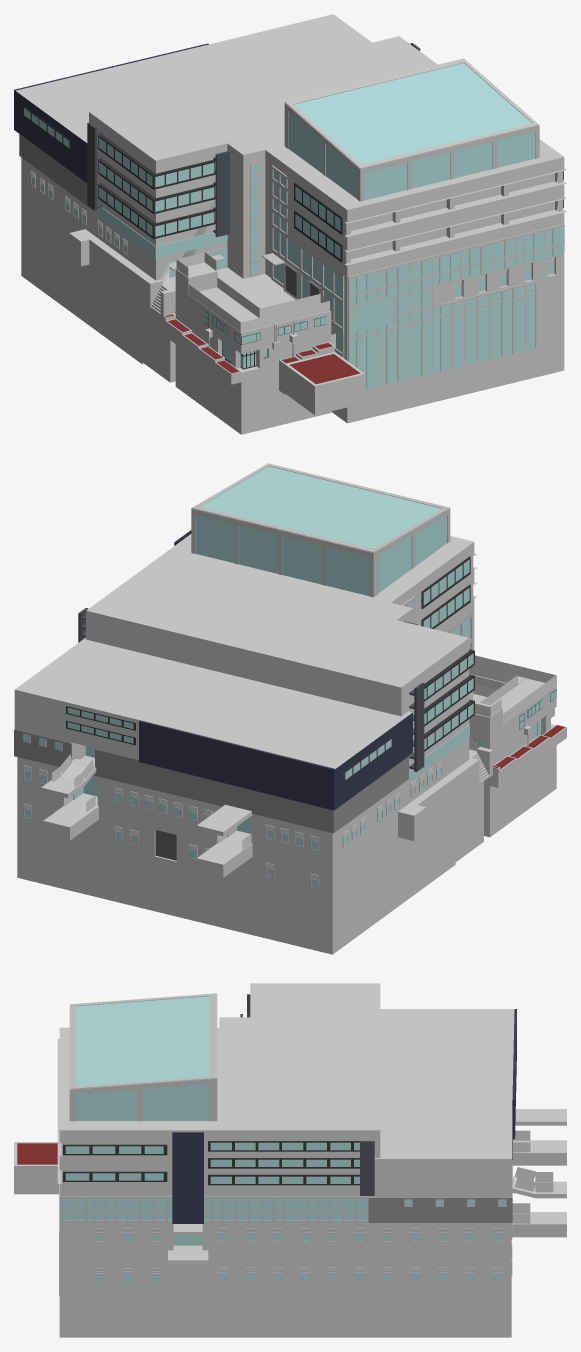
File: EastBuilding 1.fbx
3 views of the same model, one above another, from view 1: azimuth 30°, elevation 25°; view 2: azimuth 150°, elevation 25°; view 3: azimuth 270°, elevation 25° (orthographic). The views are drawn at different scales.
Visible parts, largest first — view 1: EastBuilding, greenhouse, Window3, Wall3, EastBuilding_2, Window6, Bed2, Wall2, Window3.002, Window4, Window4.001, Window4.002 (+16 smaller); view 2: EastBuilding, Wall3, greenhouse, Wall3.001, EastBuilding_2, Wall2, Bed3, floor.002, floor, stair.001, roof3, roof3.001 (+7 smaller); view 3: EastBuilding, Wall3, greenhouse, Window3.004, Window4.003, Wall3.001, Wall4, Window4.004, Bed2, Window7.032, Window7.033, floor.002 (+8 smaller).
Boxes of the visible parts, bbox=[...] form: EastBuilding: bbox=[21, 36, 564, 423]; greenhouse: bbox=[284, 58, 539, 201]; Window3: bbox=[348, 256, 537, 389]; Wall3: bbox=[14, 14, 371, 182]; EastBuilding_2: bbox=[175, 262, 331, 434]; Window6: bbox=[271, 165, 344, 358]; Bed2: bbox=[284, 352, 364, 415]; Wall2: bbox=[69, 229, 162, 308]; Window3.002: bbox=[432, 236, 516, 286]; Window4: bbox=[98, 134, 215, 189]; Window4.001: bbox=[98, 159, 215, 214]; Window4.002: bbox=[98, 184, 215, 238]; EastBuilding: bbox=[17, 534, 486, 954]; Wall3: bbox=[14, 637, 412, 810]; greenhouse: bbox=[191, 463, 450, 597]; Wall3.001: bbox=[14, 729, 408, 833]; EastBuilding_2: bbox=[469, 674, 556, 837]; Wall2: bbox=[398, 757, 479, 840]; Bed3: bbox=[484, 724, 566, 787]; floor.002: bbox=[196, 837, 252, 877]; floor: bbox=[43, 800, 98, 840]; stair.001: bbox=[409, 682, 424, 772]; roof3: bbox=[196, 804, 252, 836]; roof3.001: bbox=[41, 758, 96, 798]; EastBuilding: bbox=[59, 983, 511, 1337]; Wall3: bbox=[366, 1009, 516, 1197]; greenhouse: bbox=[69, 993, 217, 1121]; Window3.004: bbox=[84, 1196, 368, 1221]; Window4.003: bbox=[208, 1141, 374, 1185]; Wall3.001: bbox=[368, 1160, 512, 1222]; Wall4: bbox=[172, 1132, 203, 1224]; Window4.004: bbox=[63, 1144, 167, 1181]; Bed2: bbox=[14, 1142, 58, 1194]; Window7.032: bbox=[218, 1228, 502, 1242]; Window7.033: bbox=[218, 1267, 502, 1280]; floor.002: bbox=[512, 1140, 566, 1165].
Size of the model in its own units: 6872 by 4872 by 9757.
